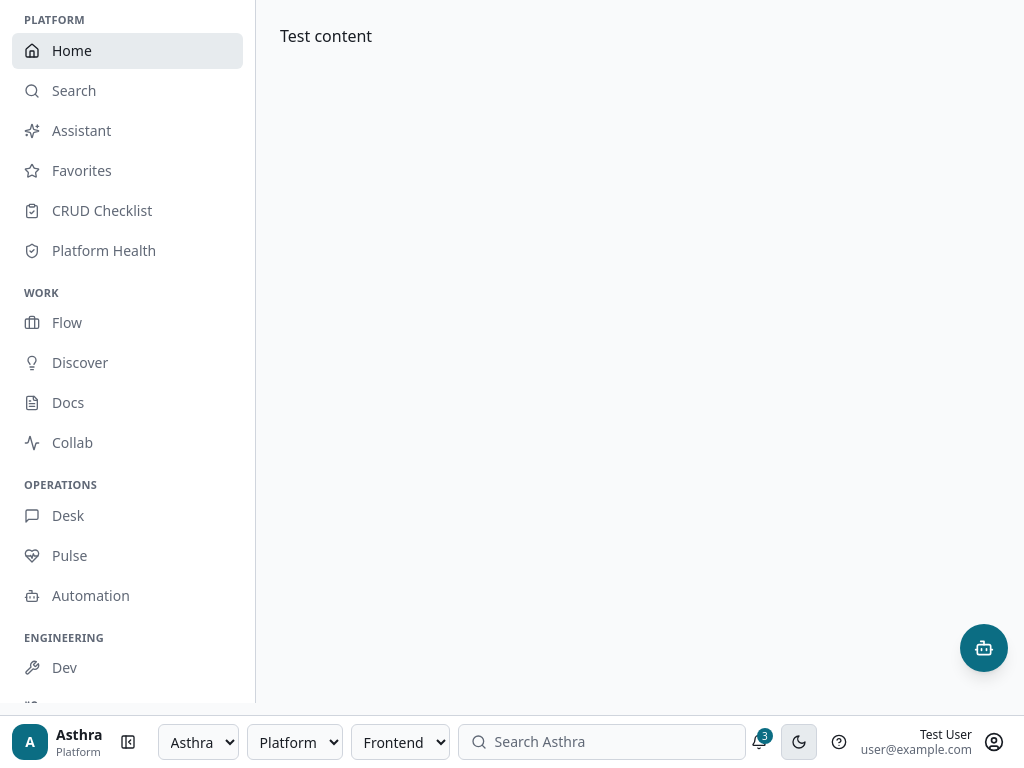
Test case: AsthraShell › opens the notification center
The width and height of the screenshot is (1024, 768).
Click the button named "Notifications" at coordinates (759, 742), box [741, 724, 777, 760]
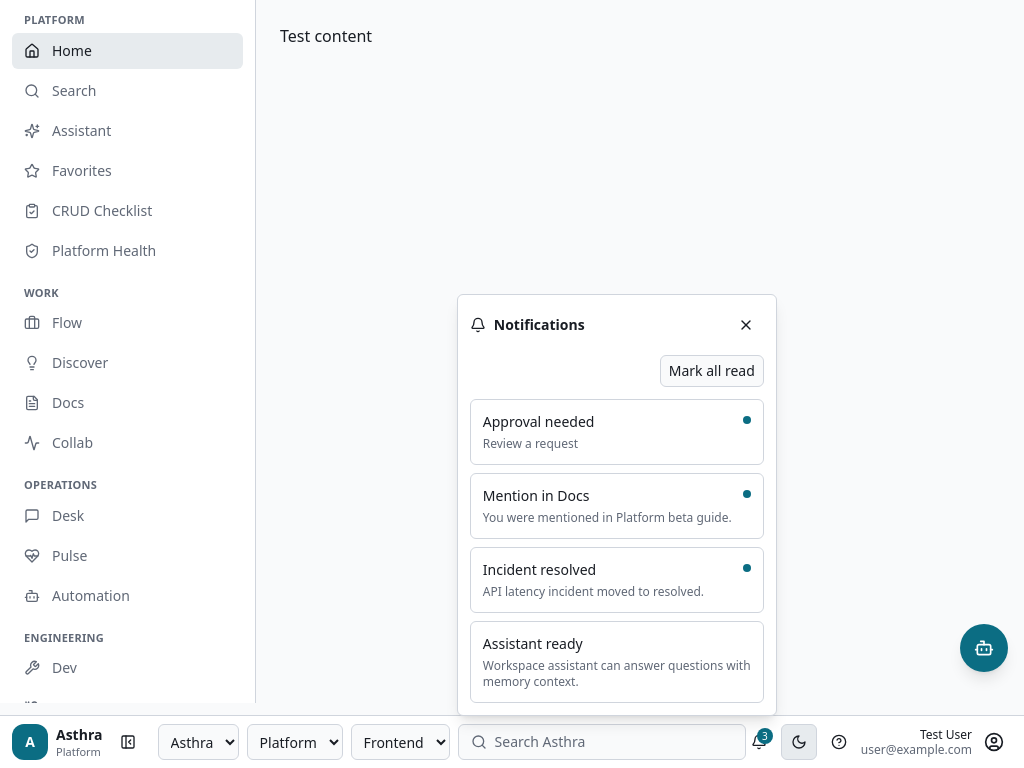
expect the dialog named "notification center" is shown: met, box [457, 294, 777, 716]
expect the text "Approval needed" is shown: met, box [483, 412, 594, 432]
